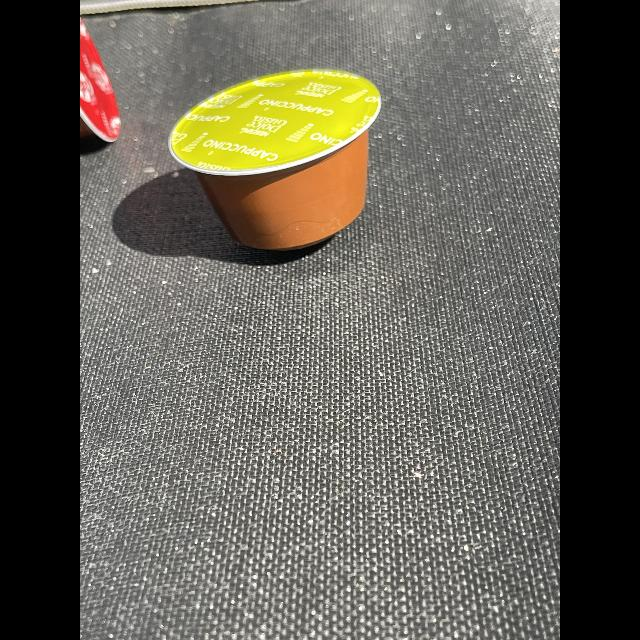intact_capsule: (166, 61, 396, 272)
